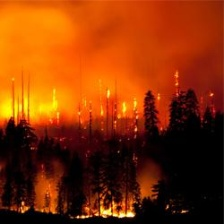fire: (1, 80, 162, 223)
